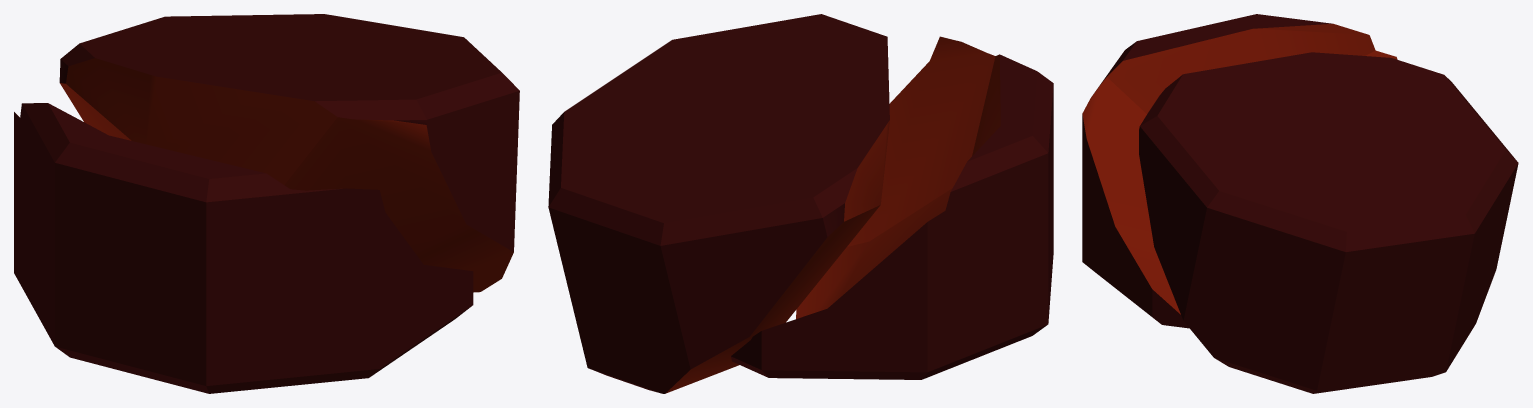
File: column_piece02.fbx
3 renders of one model, left to right at view 1: azimuth 30°, elevation 25°; view 2: azimuth 150°, elevation 25°; view 3: azimuth 270°, elevation 25°, orthographic. The views are drawn at different scales.
Parts seen in each view (by area): view 1: col_piece02a, col_piece02b; view 2: col_piece02b, col_piece02a; view 3: col_piece02b, col_piece02a.
Boxes of the visible parts, box(x1,y1,x2,y2) form: col_piece02a: box(14, 103, 473, 393); col_piece02b: box(59, 14, 519, 292); col_piece02b: box(548, 14, 889, 393); col_piece02a: box(731, 36, 1053, 379); col_piece02b: box(1139, 52, 1518, 393); col_piece02a: box(1082, 14, 1397, 328).
Bounding box in the file's own units: 18.98 × 11.04 × 18.08.
